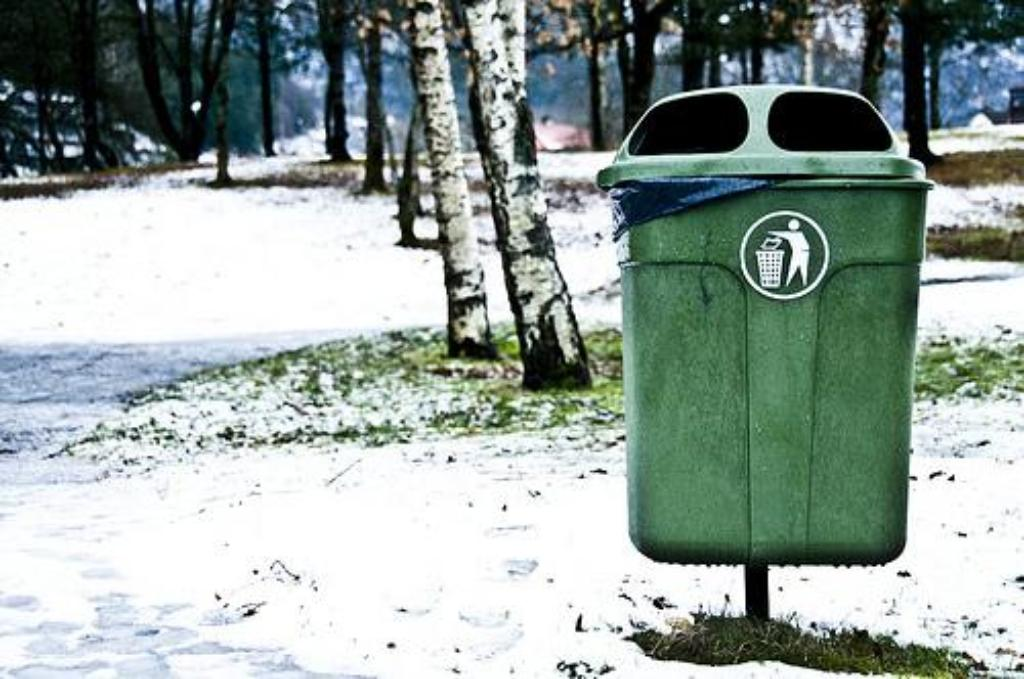dustbin: (615, 77, 955, 627)
